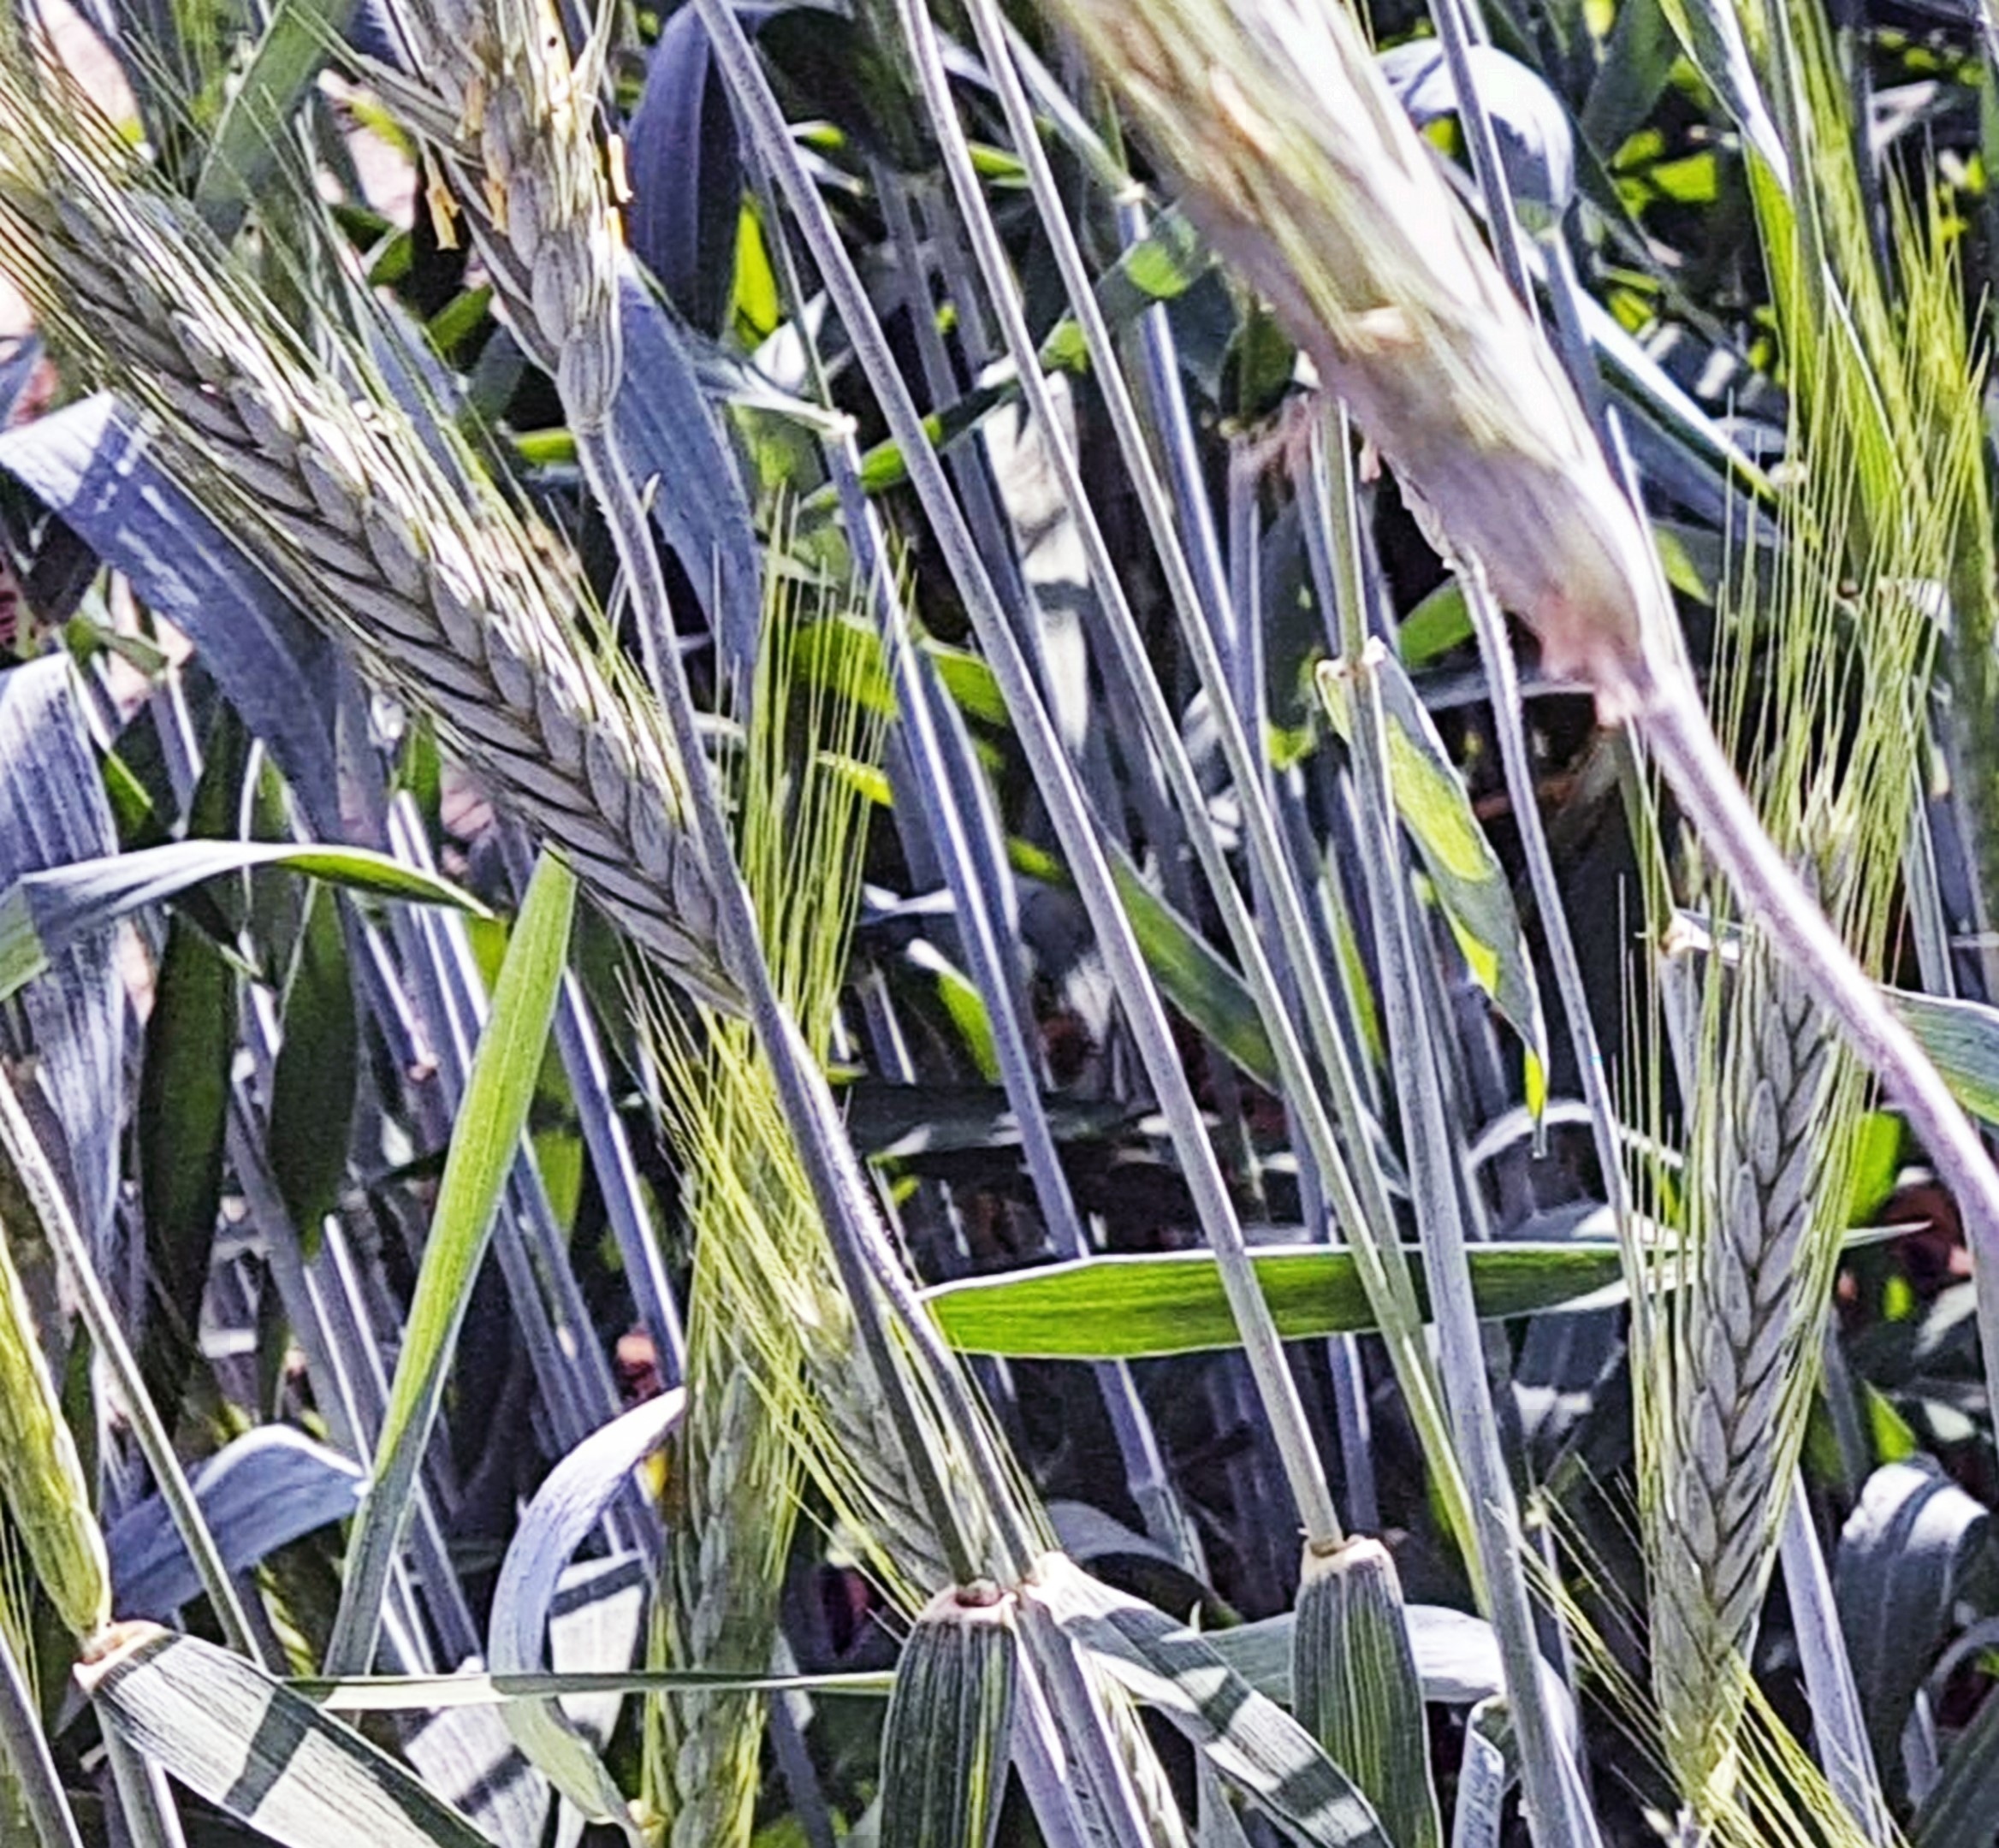Healthy Wheat: (0, 113, 750, 985), (1637, 774, 1893, 1771)
